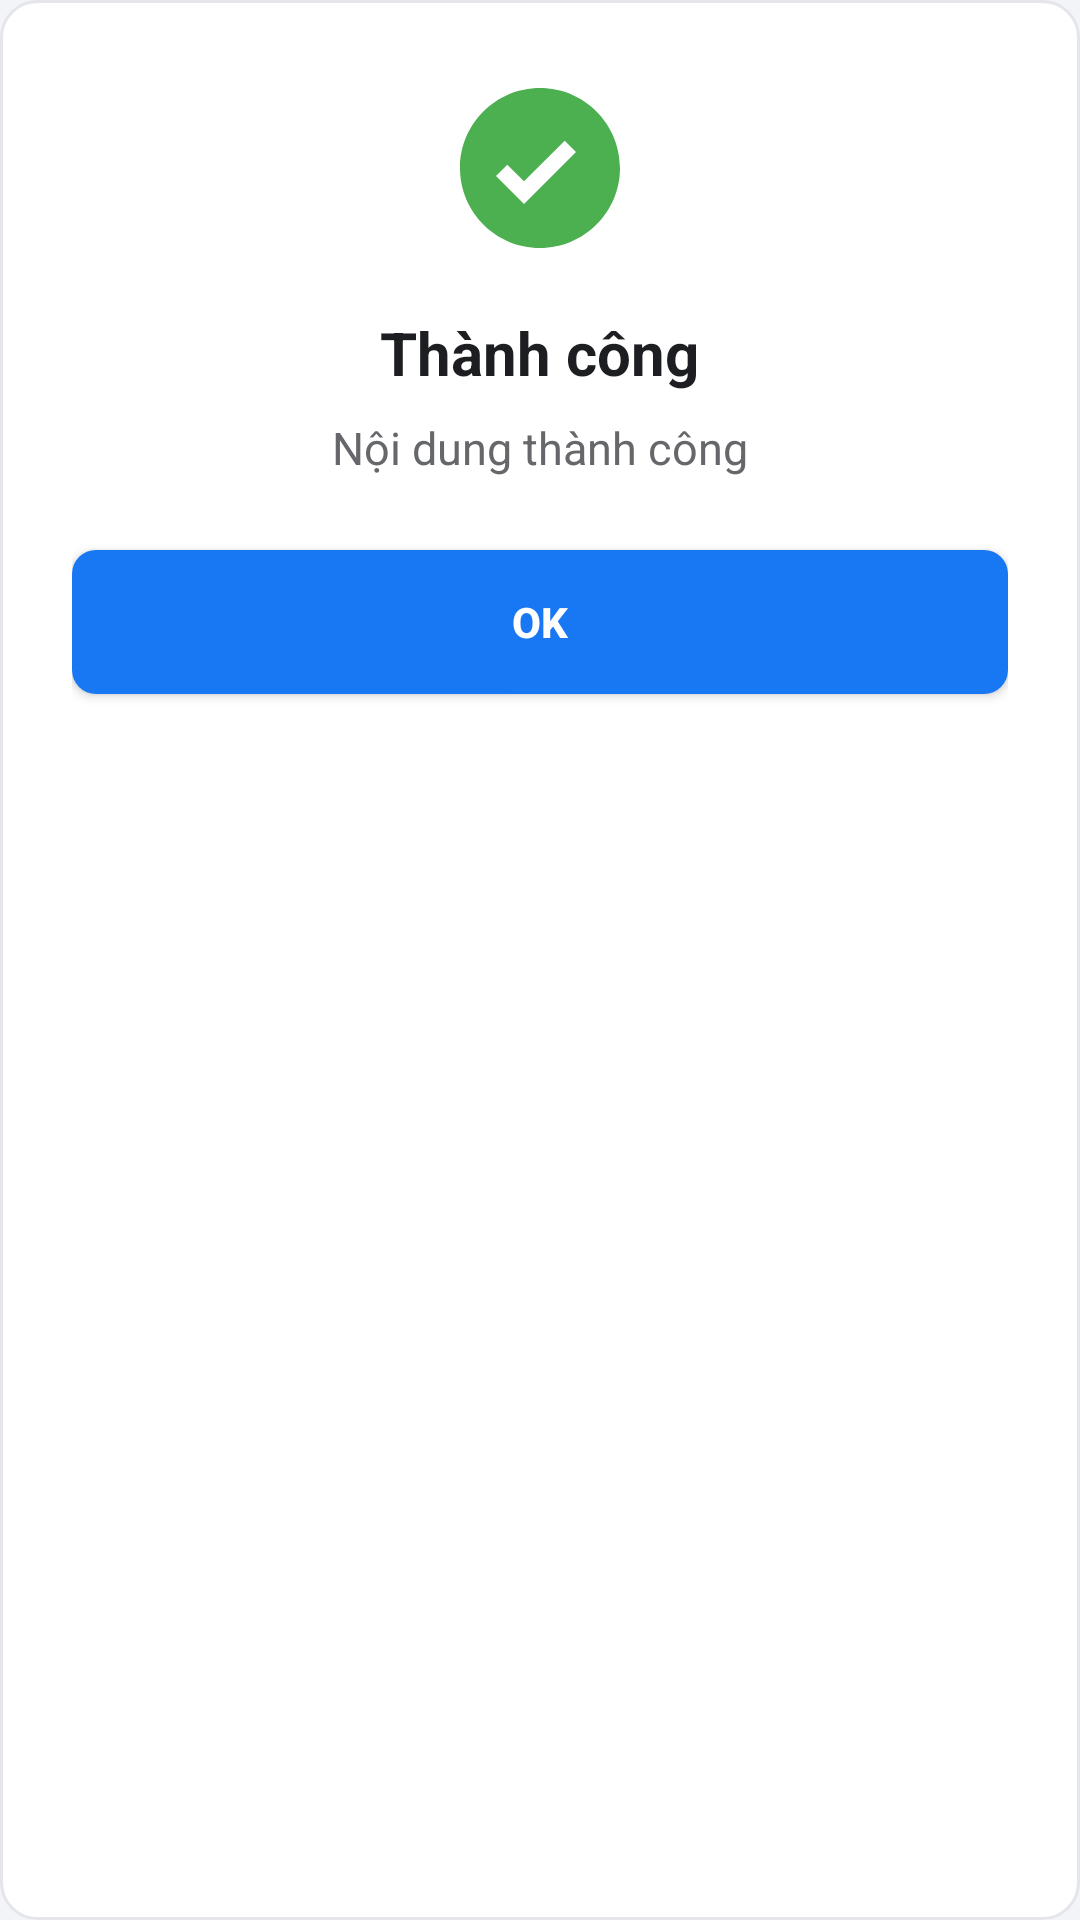

Icon click points for this 1080*1920 phone screenshot, format point (x, y):
success: point (540, 168)
